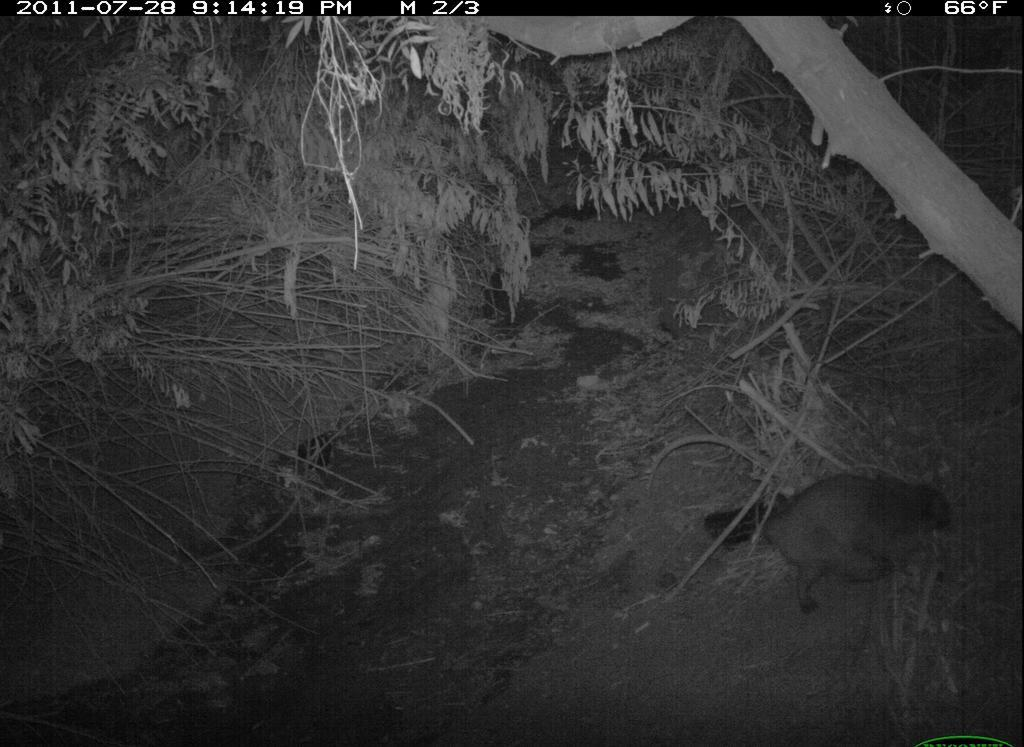raccoon: (698, 457, 972, 623)
